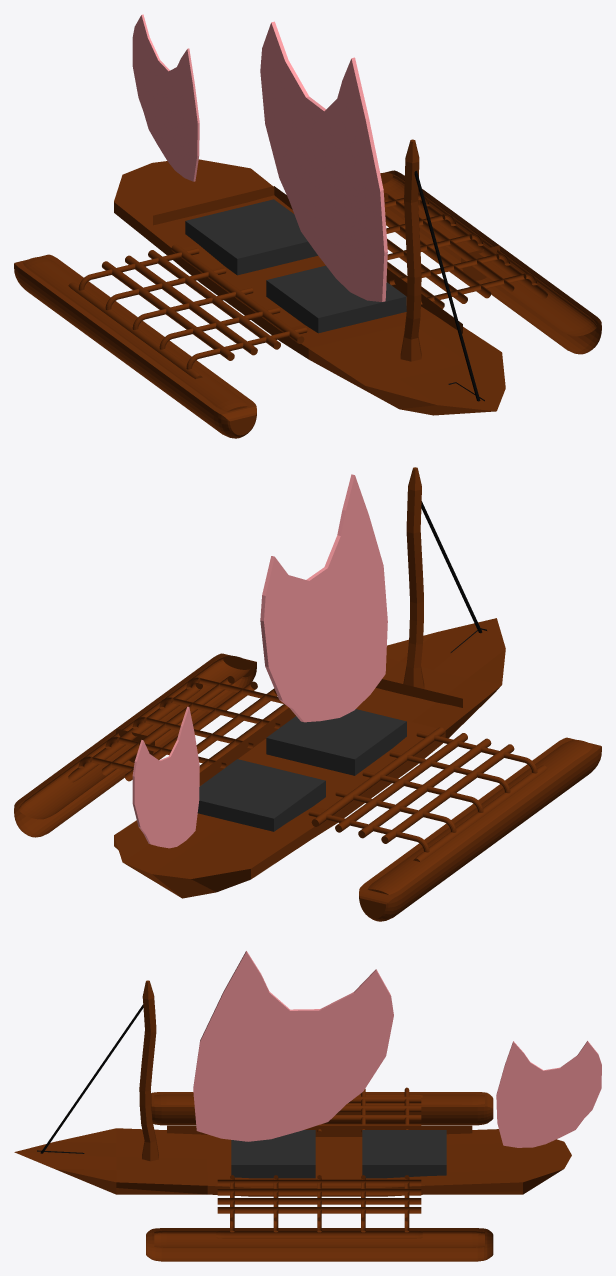
File: skifftransform.fbx
The picture shows the model from 3 angles, top to bottom: view 1: azimuth 30°, elevation 25°; view 2: azimuth 150°, elevation 25°; view 3: azimuth 270°, elevation 25°; orthographic projection. The views are drawn at different scales.
Parts seen in each view (by area): view 1: Body, rigth support, sail, left support, sail.001; view 2: Body, rigth support, sail, left support, sail.001; view 3: Body, sail, left support, sail.001, rigth support.
Part boxes in pixels (left/top/right/bottom): Body: left=114, top=139, right=505, bottom=415; rigth support: left=14, top=244, right=307, bottom=438; sail: left=260, top=21, right=387, bottom=301; left support: left=380, top=170, right=601, bottom=354; sail.001: left=132, top=14, right=199, bottom=181; Body: left=114, top=467, right=505, bottom=898; rigth support: left=308, top=727, right=601, bottom=921; sail: left=260, top=474, right=387, bottom=722; left support: left=14, top=653, right=288, bottom=837; sail.001: left=132, top=706, right=199, bottom=848; Body: left=14, top=980, right=571, bottom=1196; sail: left=193, top=951, right=393, bottom=1141; left support: left=146, top=1175, right=493, bottom=1261; sail.001: left=496, top=1041, right=601, bottom=1147; rigth support: left=151, top=1087, right=493, bottom=1134.
Size of the model in its own units: 1643 by 1222 by 2693.
